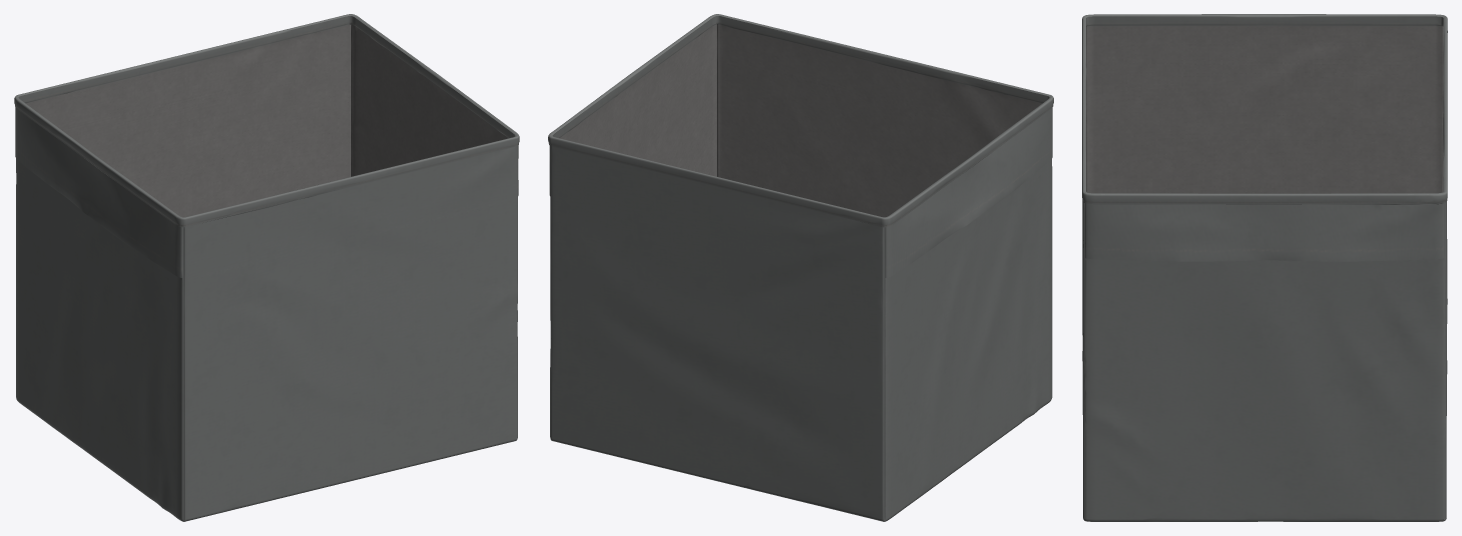
Rendered from 01 - DRÖNA Box - dark grey 33x38x33 cm.glb.
3 renders of one model, left to right at view 1: azimuth 30°, elevation 25°; view 2: azimuth 150°, elevation 25°; view 3: azimuth 270°, elevation 25°, orthographic. The views are drawn at different scales.
Parts seen in each view (by area): view 1: Mesh_0; view 2: Mesh_0; view 3: Mesh_0.
Boxes of the visible parts, x1,y1,x2,y2 form: Mesh_0: [14, 14, 519, 521]; Mesh_0: [548, 14, 1053, 521]; Mesh_0: [1082, 14, 1447, 521].
Bounding box in the file's own units: 0.3902 × 0.3286 × 0.3262.
2 materials, 2 textured.
